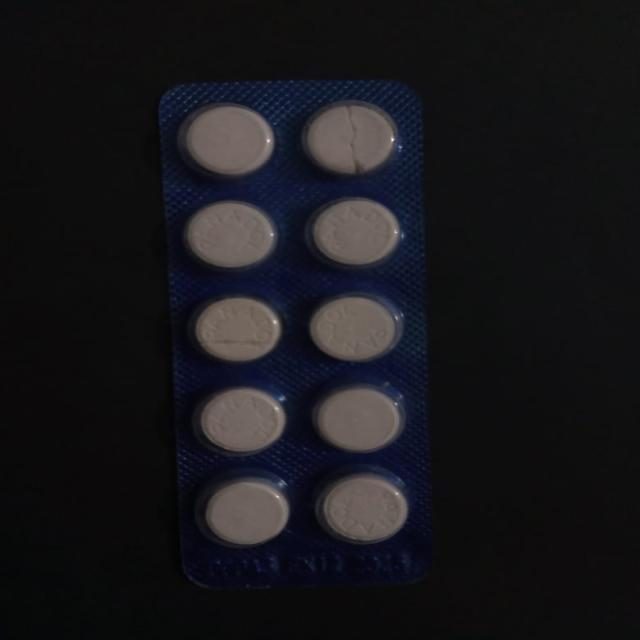defect: (298, 95, 404, 180), (185, 288, 291, 368)
